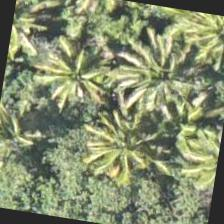Kelapa_Sawit: (72, 100, 176, 203), (112, 29, 215, 132), (22, 26, 124, 129), (0, 94, 58, 193), (5, 0, 65, 78), (180, 11, 223, 81)
